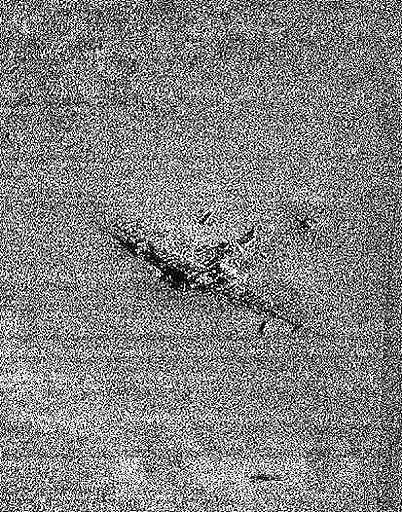aircraft: (103, 210, 314, 335)
